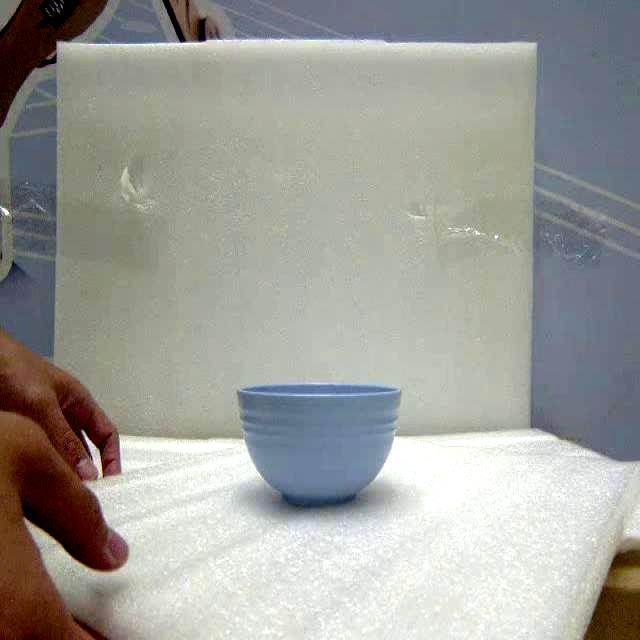Bowl: (238, 384, 400, 505)
